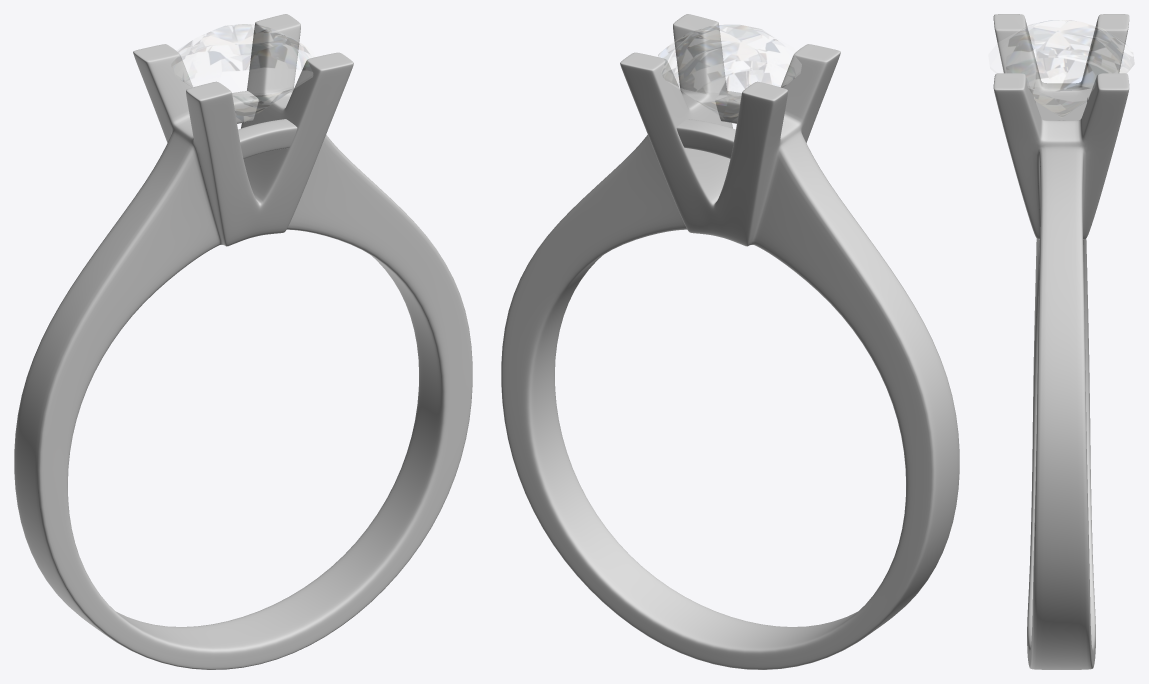
Rendered from ATASAY_PoC_OO_V2.glb.
The picture shows the model from 3 angles, left to right: view 1: azimuth 30°, elevation 25°; view 2: azimuth 150°, elevation 25°; view 3: azimuth 270°, elevation 25°; orthographic projection.
Visible parts, largest first — view 1: Ring_Body, Ring_Diamond; view 2: Ring_Body, Ring_Diamond; view 3: Ring_Body, Ring_Diamond.
Part boxes in pixels (<box>): Ring_Body: <box>14,14,472,669</box>; Ring_Diamond: <box>172,24,314,121</box>; Ring_Body: <box>501,14,959,669</box>; Ring_Diamond: <box>658,25,801,121</box>; Ring_Body: <box>993,14,1129,669</box>; Ring_Diamond: <box>989,20,1133,117</box>.
Bounding box in the file's own units: 0.015 × 0.0202 × 0.00437.
Materials: 2 (1 with a texture image).
